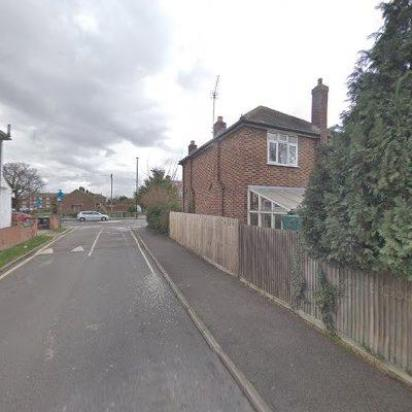moving-car: (78, 210, 108, 222), (12, 210, 34, 224)
